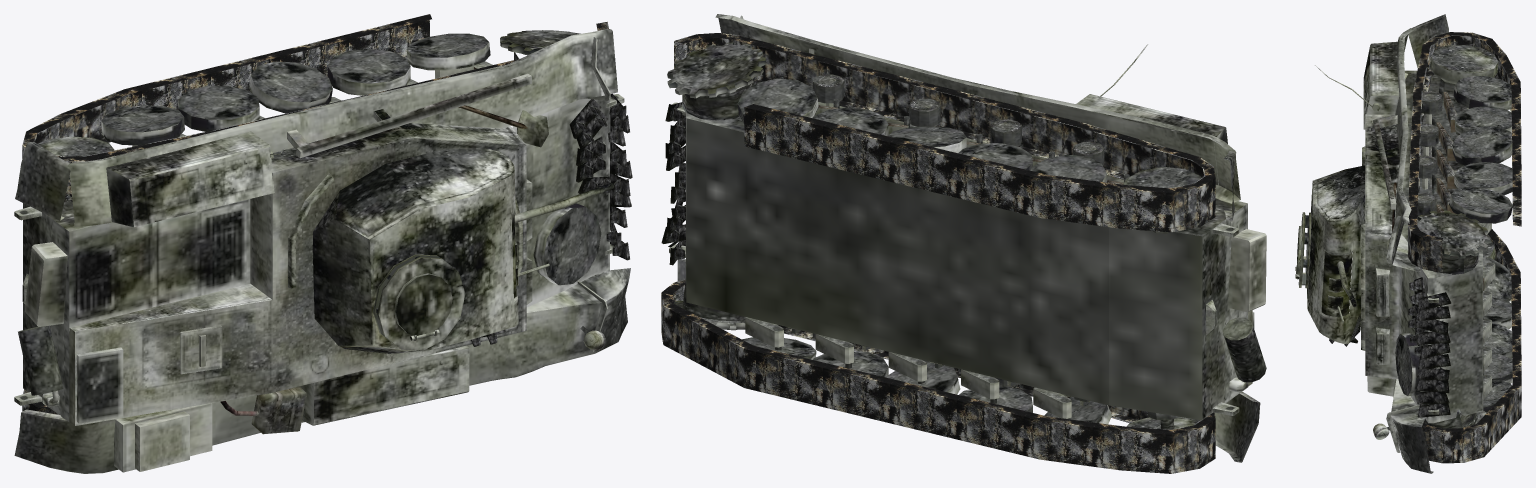
The model's file is vehicle_panzer_ii_winter_destroyed.glb.
3 views of the same model, side by side, from view 1: azimuth 30°, elevation 25°; view 2: azimuth 150°, elevation 25°; view 3: azimuth 270°, elevation 25° (orthographic). The views are drawn at different scales.
Size of the model in its own units: 240 by 127 by 101.
2 materials, 2 textured.
